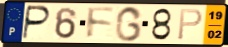6: (55, 7, 79, 40)
8: (151, 7, 174, 41)
F: (87, 6, 116, 41)
G: (114, 5, 144, 43)
P: (21, 5, 53, 41), (177, 8, 205, 41)
